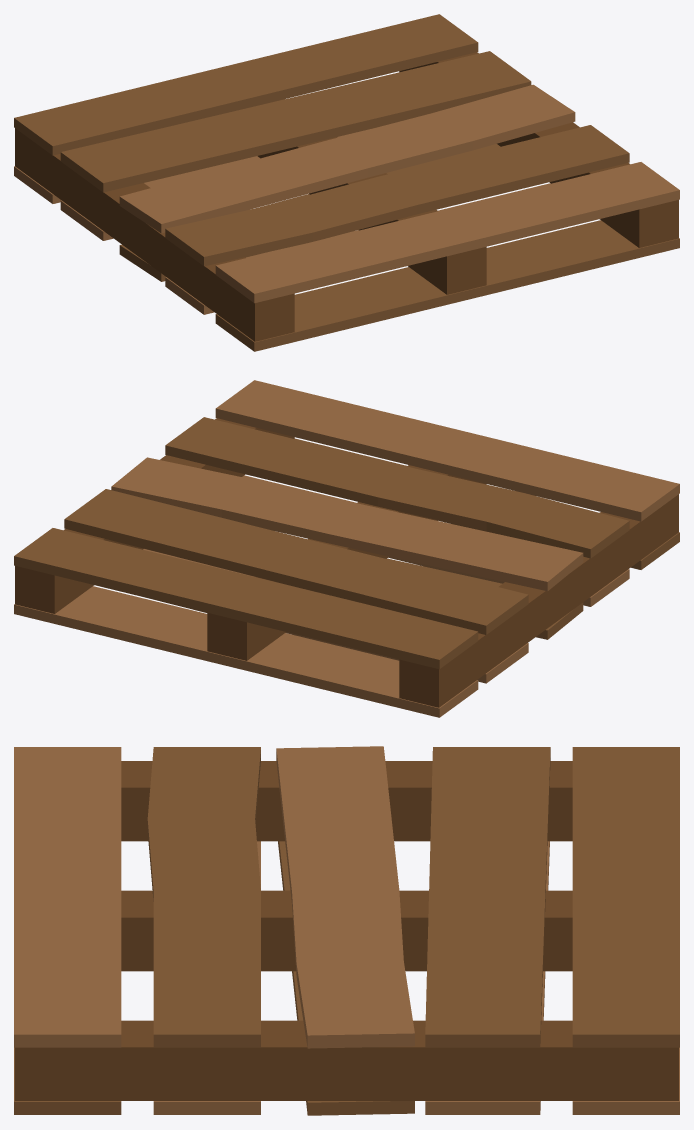
File: Pallet_01.fbx
3 renders of one model, top to bottom at view 1: azimuth 30°, elevation 25°; view 2: azimuth 150°, elevation 25°; view 3: azimuth 270°, elevation 25°, orthographic. The views are drawn at different scales.
Visible parts, largest first — view 1: Pallet_01; view 2: Pallet_01; view 3: Pallet_01.
Boxes of the visible parts, bbox=[...] form: Pallet_01: bbox=[14, 14, 679, 351]; Pallet_01: bbox=[14, 380, 679, 717]; Pallet_01: bbox=[14, 746, 679, 1115].
Size of the model in its own units: 121 by 15.68 by 118.
